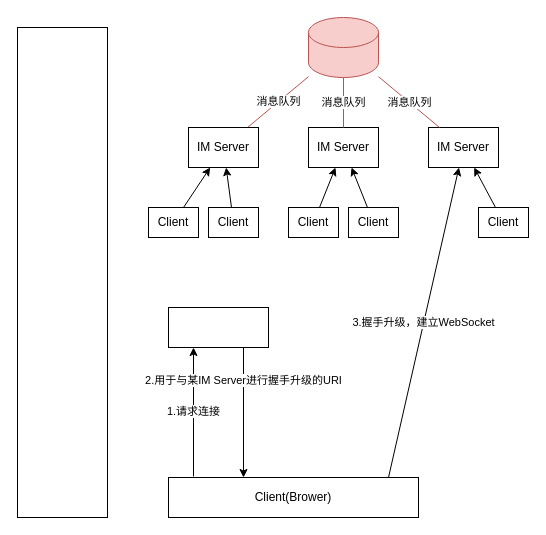
This 546x535 diagram has some shape labels left out. Here are the shapes that lost their labels. From the top down, the box of each, then its label:
(308, 16, 378, 78): Exchange
(16, 26, 108, 518): Redis (用户信息 包括用户所连接的IMServer的标识，用于转发消息)
(168, 306, 268, 348): Manager
